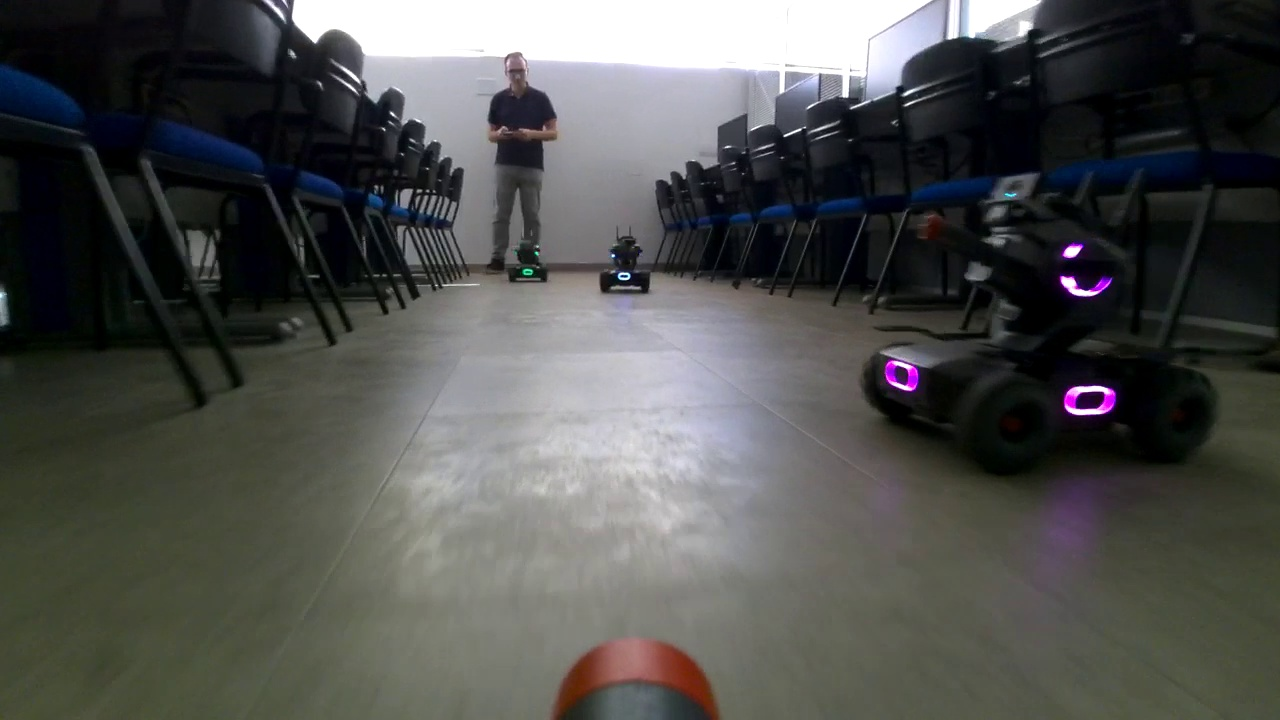robot: (860, 176, 1216, 465), (599, 228, 649, 292), (510, 231, 549, 283)
